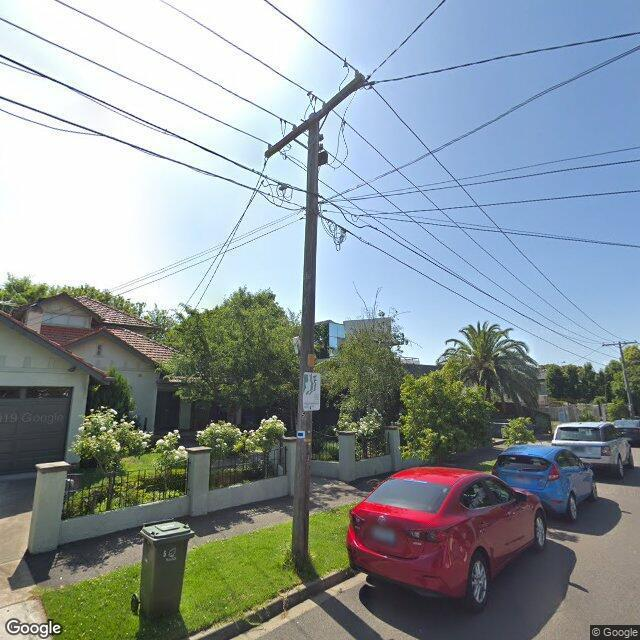crossarm: (263, 72, 369, 160), (601, 339, 638, 347)
timber-pole: (289, 108, 321, 559), (618, 341, 634, 419)
